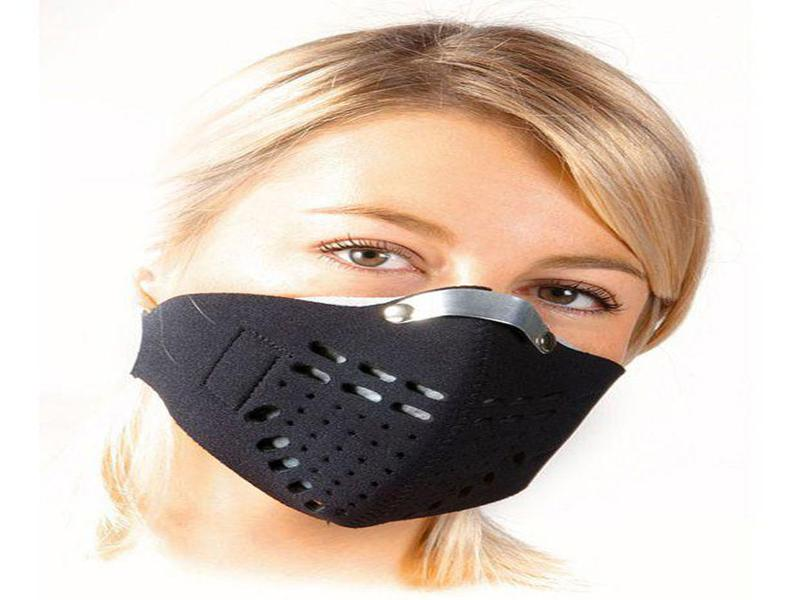with_mask: (127, 87, 649, 527)
